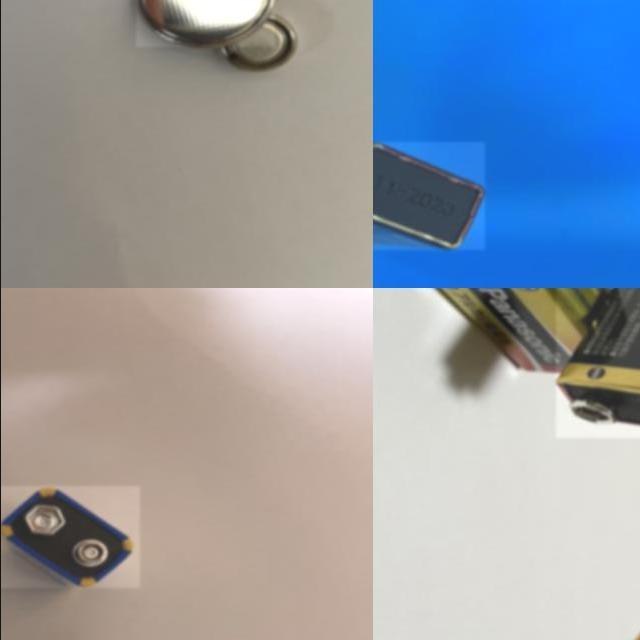9V: (416, 288, 615, 372), (0, 485, 139, 588), (555, 288, 640, 438), (372, 142, 484, 250)
